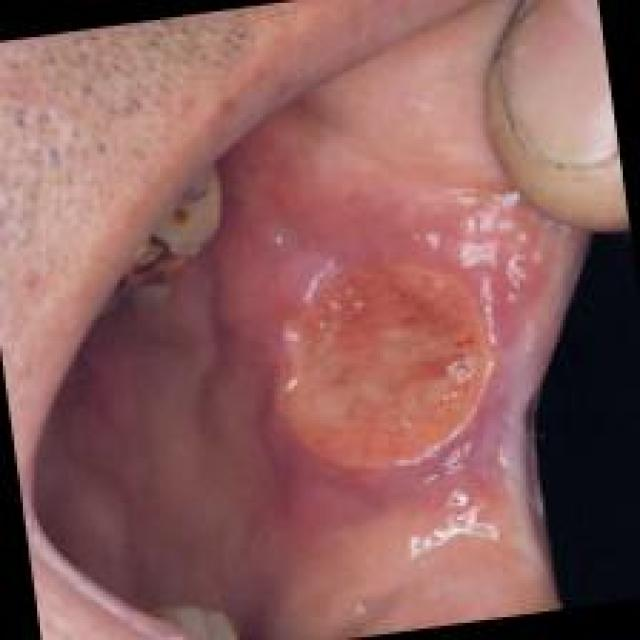processing_area: (60, 0, 575, 637)
ulcer-detection: (245, 221, 509, 511)
